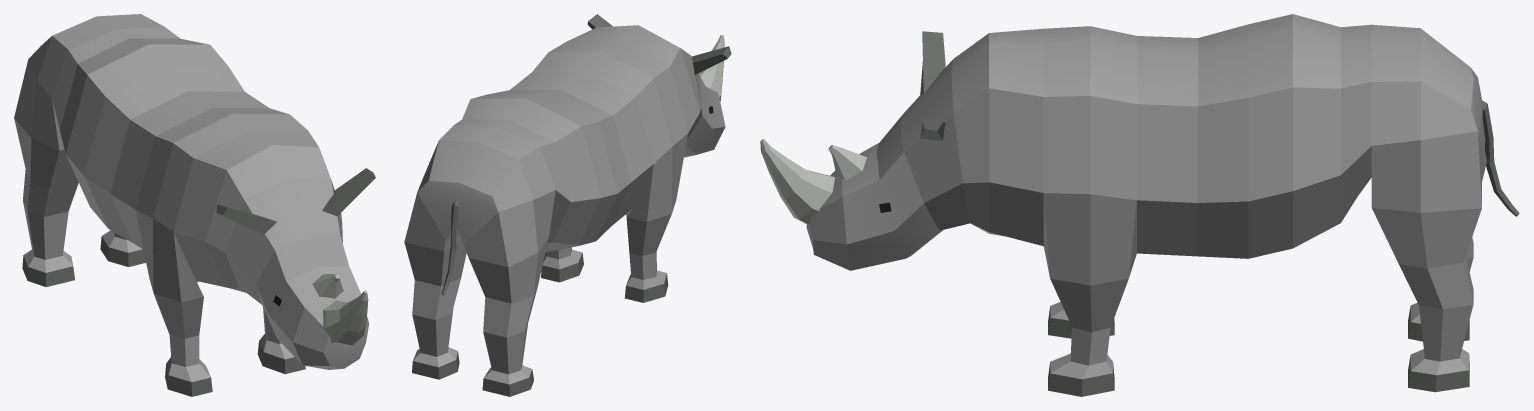
The model's file is rhino.glb.
3 views of the same model, side by side, from view 1: azimuth 30°, elevation 25°; view 2: azimuth 150°, elevation 25°; view 3: azimuth 270°, elevation 25° (orthographic). The views are drawn at different scales.
Parts seen in each view (by area): view 1: Geo_Rhinoceros; view 2: Geo_Rhinoceros; view 3: Geo_Rhinoceros.
Boxes of the visible parts, x1,y1,x2,y2 form: Geo_Rhinoceros: [14, 14, 375, 396]; Geo_Rhinoceros: [404, 14, 731, 396]; Geo_Rhinoceros: [760, 14, 1519, 396].
Size of the model in its own units: 1.11 by 1.7 by 3.6.
1 material, 1 textured.
